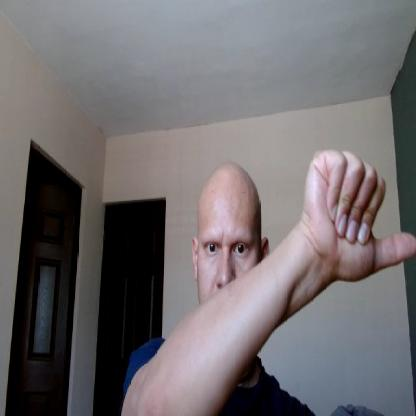A: (303, 146, 415, 281)
